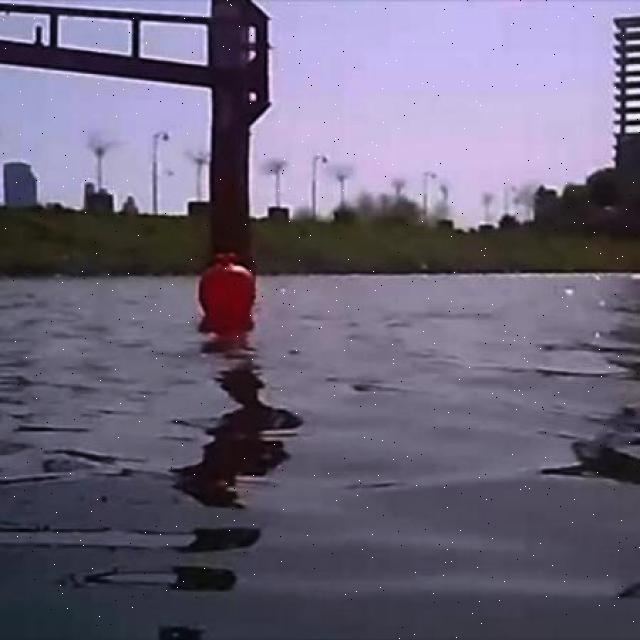buoy: (200, 260, 254, 333)
